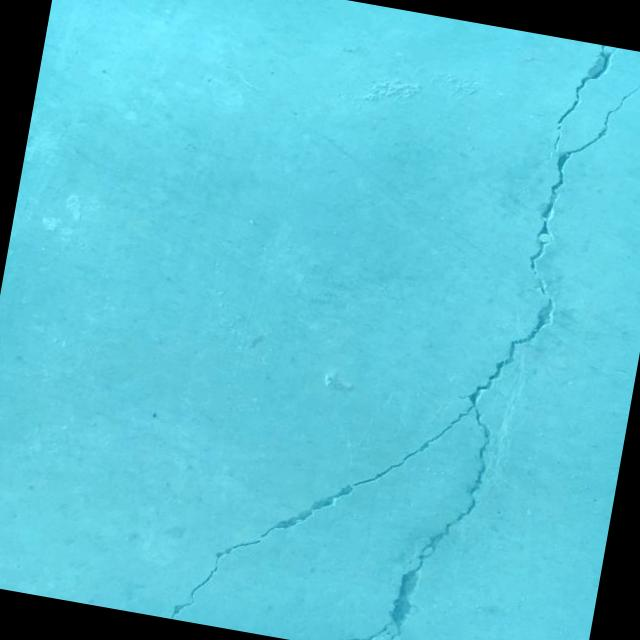crack: (169, 7, 640, 640), (551, 39, 614, 157)
